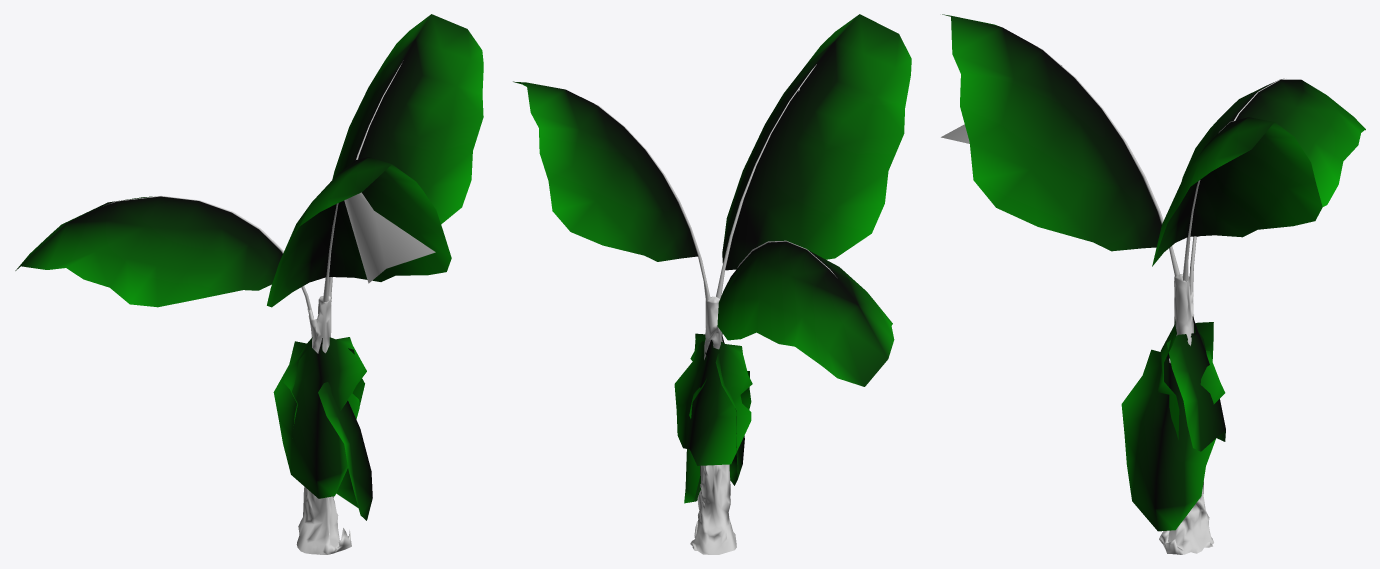
The model's file is CoconutPalmTree04_afsTREE_xlprl05_xlod01.fbx.
3 renders of one model, left to right at view 1: azimuth 30°, elevation 25°; view 2: azimuth 150°, elevation 25°; view 3: azimuth 270°, elevation 25°, orthographic. The views are drawn at different scales.
Visible parts, largest first — view 1: PalmBranch01_xw07_xt08_xlp00.004, PalmBranch01_xw10_xt08_xlp00.003, PalmBranch01_xw10_xt09_xlp00.004, DeadPalmBranch_xw01_xt02_xlp01_xp01, PalmBlade02_bent_right_xw03_xt05_xlp05.005, trunk_CoconutPalmTree04_xw03_xt03_xlp03, DeadPalmBranch_xw02_xt03_xlp02_xp03.006, DeadPalmBranch_xw01_xt02_xlp01; view 2: PalmBranch01_xw10_xt09_xlp00.004, PalmBranch01_xw10_xt08_xlp00.003, PalmBranch01_xw07_xt08_xlp00.004, DeadPalmBranch_xw01_xt02_xlp01, trunk_CoconutPalmTree04_xw03_xt03_xlp03, DeadPalmBranch_xw02_xt03_xlp02_xp03.006, DeadPalmBranch_xw01_xt02_xlp01_xp01, PalmBranch01_xw10_xt09_xlp08_xp08, PalmBranch01_xw10_xt08_xlp06_xp03; view 3: PalmBranch01_xw10_xt09_xlp00.004, PalmBranch01_xw10_xt08_xlp00.003, DeadPalmBranch_xw02_xt03_xlp02_xp03.006, PalmBranch01_xw07_xt08_xlp00.004, DeadPalmBranch_xw01_xt02_xlp01, trunk_CoconutPalmTree04_xw03_xt03_xlp03, DeadPalmBranch_xw01_xt02_xlp01_xp01, PalmBranch01_xw10_xt09_xlp08_xp08.
Boxes of the visible parts, box(x1,y1,x2,y2) form: PalmBranch01_xw07_xt08_xlp00.004: box(15, 196, 282, 307); PalmBranch01_xw10_xt08_xlp00.003: box(332, 14, 483, 224); PalmBranch01_xw10_xt09_xlp00.004: box(267, 157, 451, 307); DeadPalmBranch_xw01_xt02_xlp01_xp01: box(273, 337, 366, 498); PalmBlade02_bent_right_xw03_xt05_xlp05.005: box(344, 192, 435, 283); trunk_CoconutPalmTree04_xw03_xt03_xlp03: box(296, 296, 351, 554); DeadPalmBranch_xw02_xt03_xlp02_xp03.006: box(318, 382, 372, 520); DeadPalmBranch_xw01_xt02_xlp01: box(283, 337, 364, 425); PalmBranch01_xw10_xt09_xlp00.004: box(722, 14, 911, 270); PalmBranch01_xw10_xt08_xlp00.003: box(513, 81, 697, 261); PalmBranch01_xw07_xt08_xlp00.004: box(717, 241, 894, 386); DeadPalmBranch_xw01_xt02_xlp01: box(674, 340, 752, 465); trunk_CoconutPalmTree04_xw03_xt03_xlp03: box(690, 296, 736, 554); DeadPalmBranch_xw02_xt03_xlp02_xp03.006: box(684, 371, 751, 503); DeadPalmBranch_xw01_xt02_xlp01_xp01: box(690, 333, 744, 485); PalmBranch01_xw10_xt09_xlp08_xp08: box(716, 64, 816, 298); PalmBranch01_xw10_xt08_xlp06_xp03: box(594, 103, 710, 301); PalmBranch01_xw10_xt09_xlp00.004: box(942, 14, 1161, 251); PalmBranch01_xw10_xt08_xlp00.003: box(1152, 117, 1322, 266); DeadPalmBranch_xw02_xt03_xlp02_xp03.006: box(1121, 349, 1225, 531); PalmBranch01_xw07_xt08_xlp00.004: box(1182, 79, 1365, 236); DeadPalmBranch_xw01_xt02_xlp01: box(1166, 316, 1225, 451); trunk_CoconutPalmTree04_xw03_xt03_xlp03: box(1159, 274, 1213, 554); DeadPalmBranch_xw01_xt02_xlp01_xp01: box(1157, 319, 1213, 439); PalmBranch01_xw10_xt09_xlp08_xp08: box(1035, 45, 1179, 276).
Size of what is drawn, in the model's own units: 7.18 by 5.89 by 7.76.
